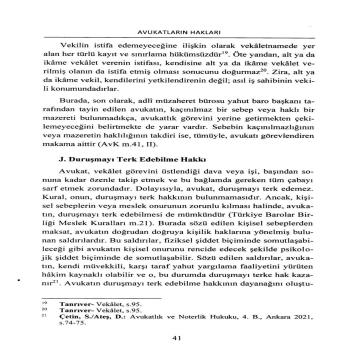footer: (54, 300, 318, 330)
header: (128, 28, 229, 36)
